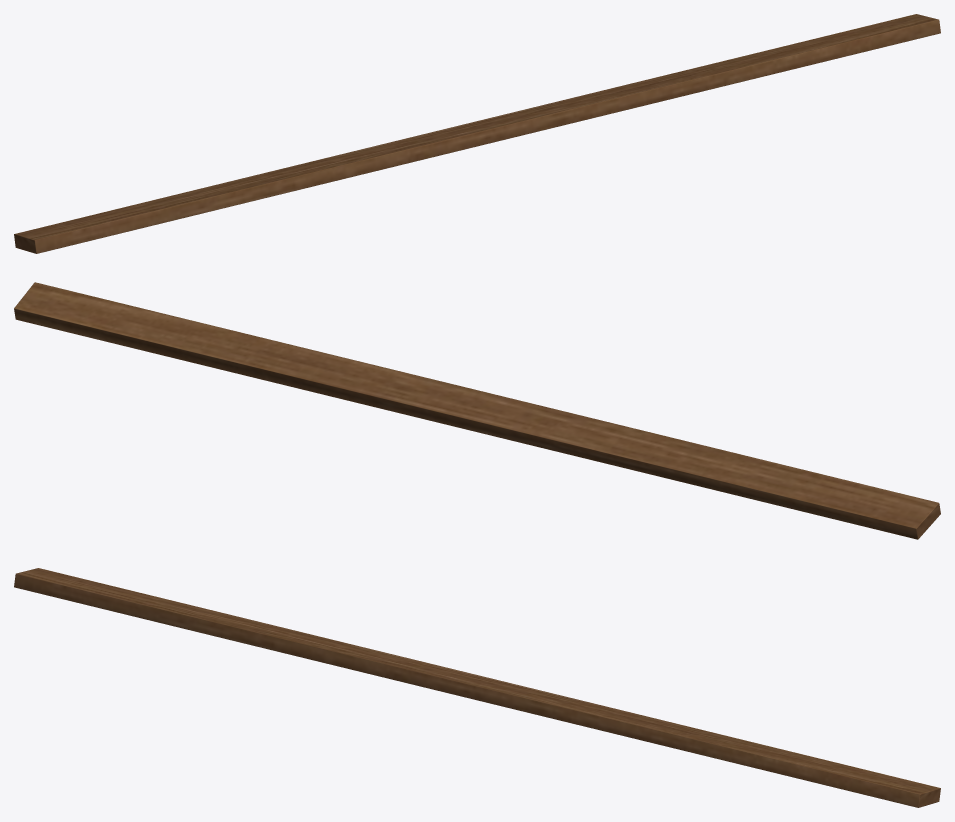
The model's file is plank.001.gltf.
3 views of the same model, one above another, from view 1: azimuth 30°, elevation 25°; view 2: azimuth 150°, elevation 25°; view 3: azimuth 330°, elevation 25° (orthographic).
Visible parts, largest first — view 1: plank.001; view 2: plank.001; view 3: plank.001.
Boxes of the visible parts, bbox=[...] form: plank.001: bbox=[14, 14, 940, 253]; plank.001: bbox=[14, 282, 940, 539]; plank.001: bbox=[14, 568, 940, 807].
Bounding box in the file's own units: 0.691 × 0.0164 × 0.0313.
Materials: 1 (1 with a texture image).
